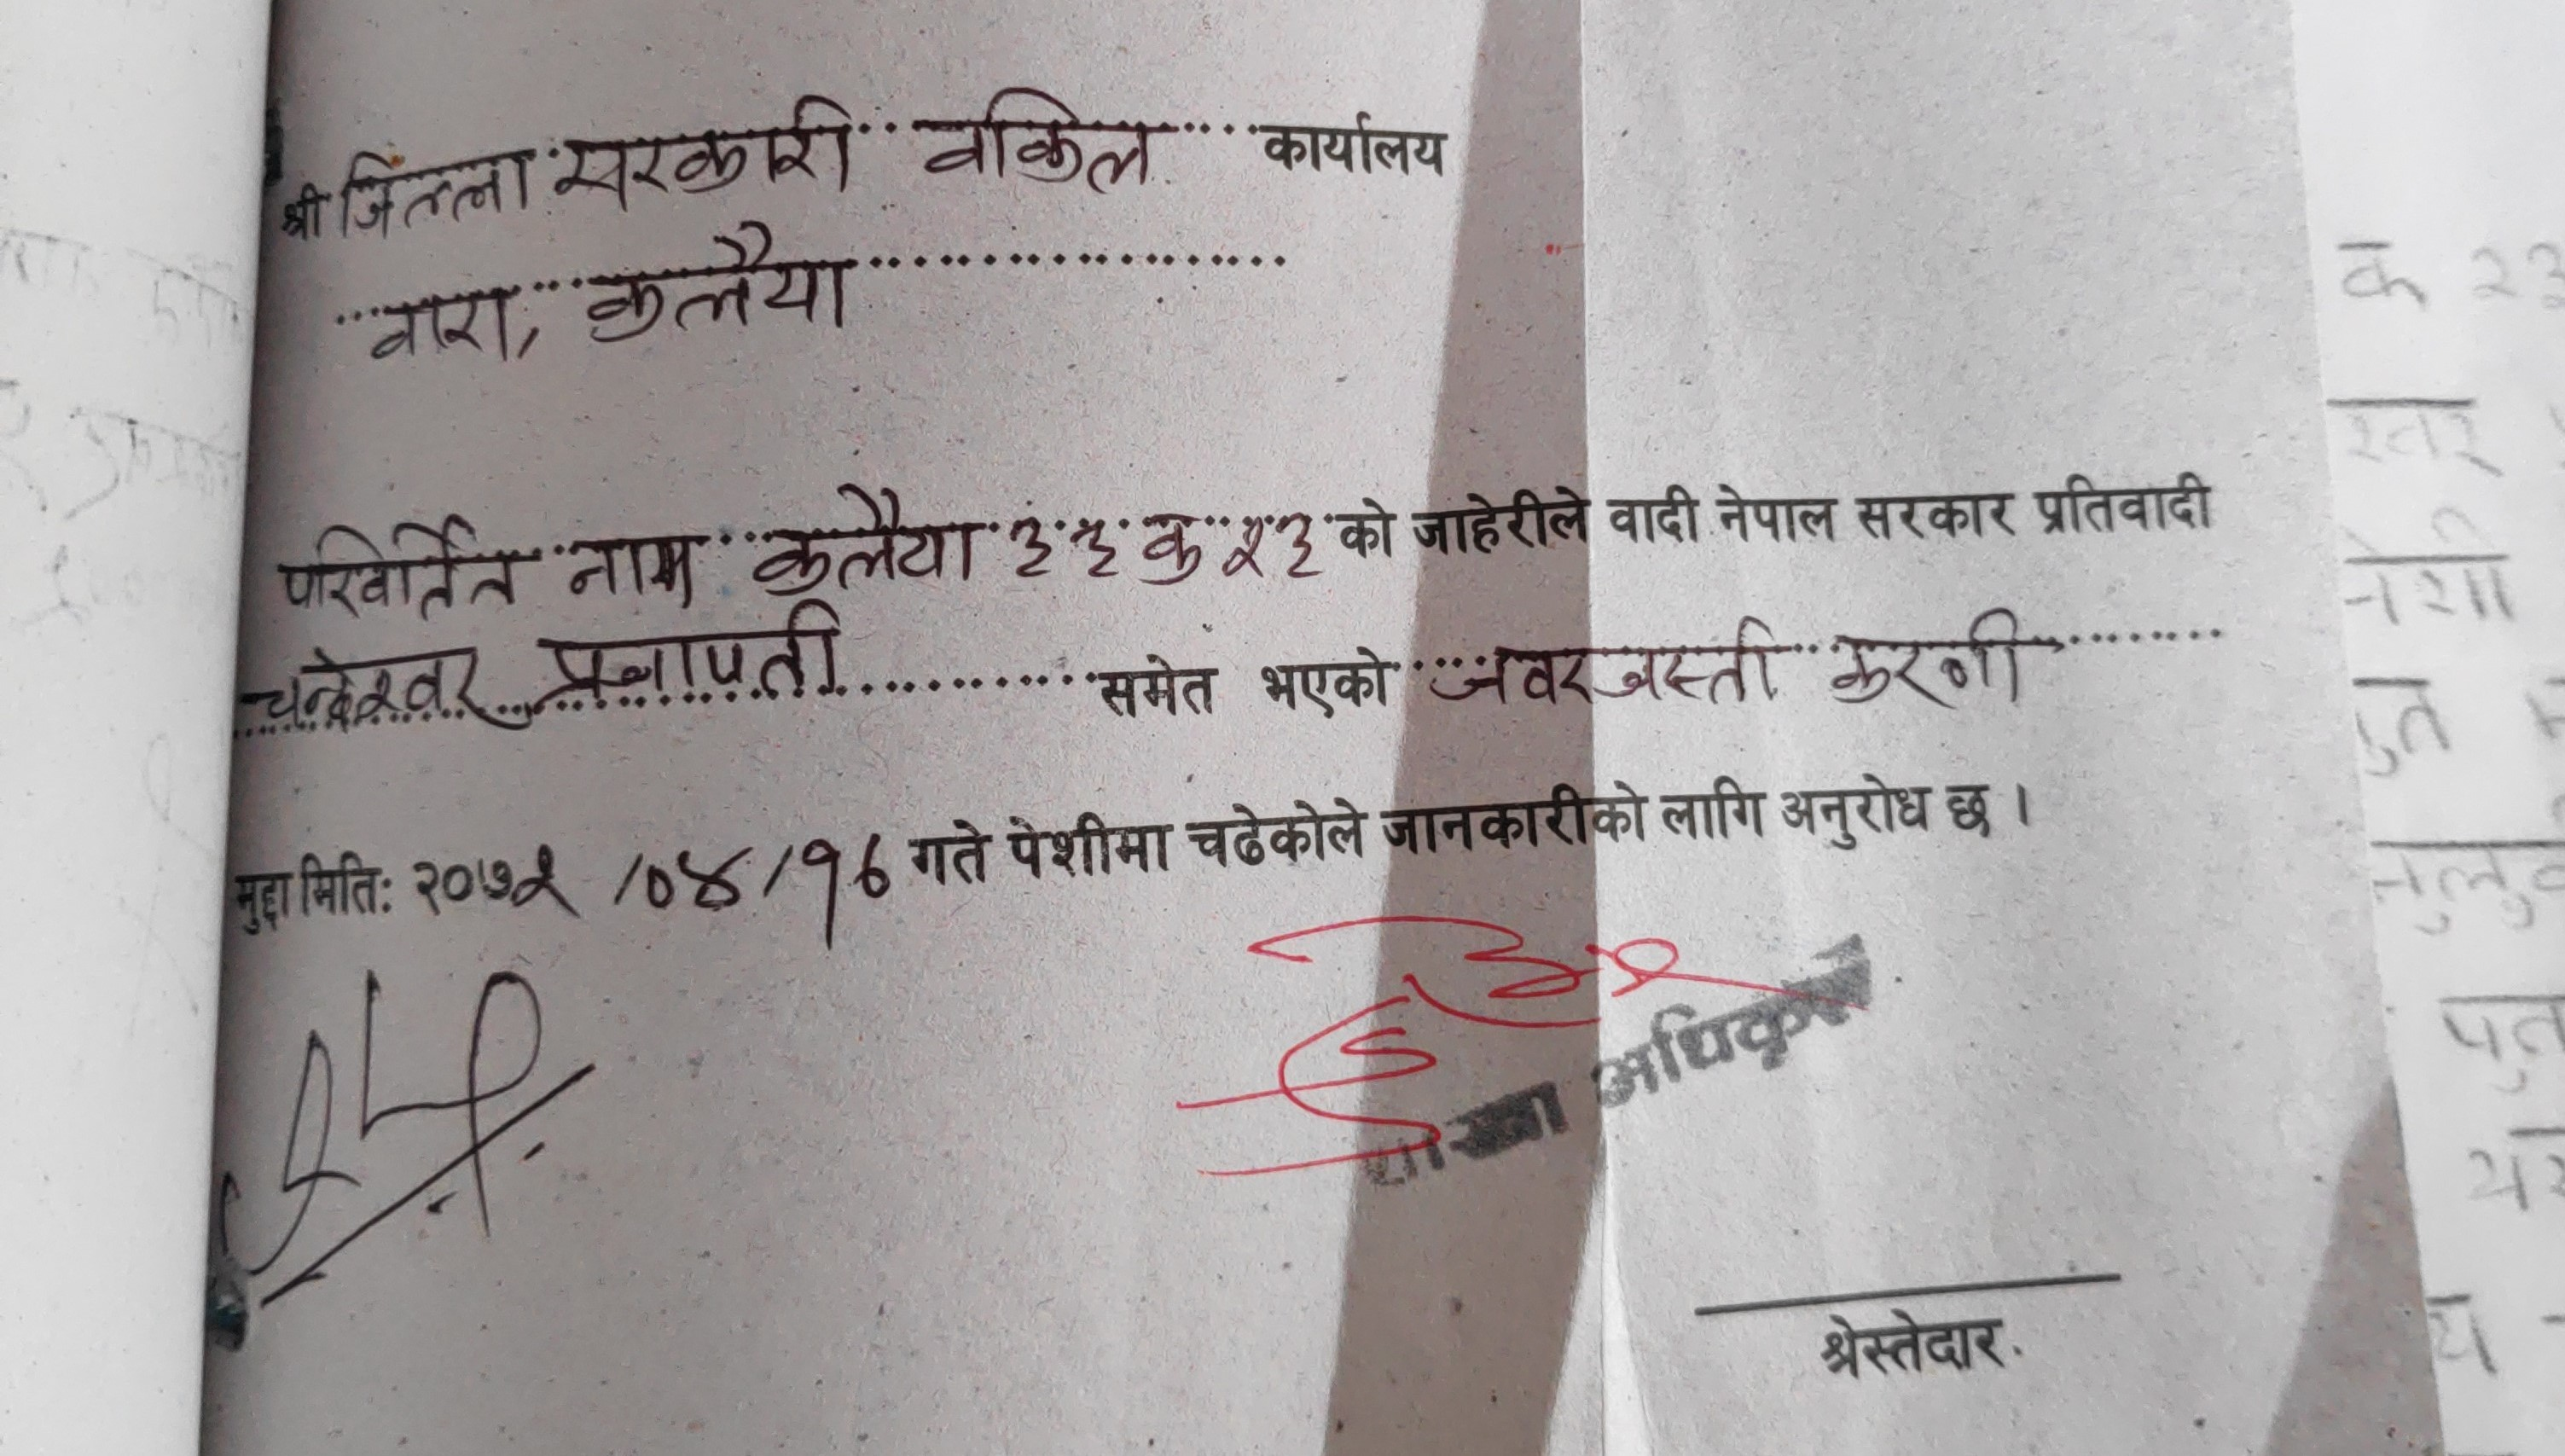text: (550, 86, 869, 218), (1427, 607, 1790, 715), (539, 599, 846, 718), (576, 217, 853, 347), (736, 481, 983, 599), (914, 83, 1163, 199), (1002, 504, 1327, 590), (250, 644, 509, 748), (275, 518, 523, 621), (1820, 606, 2040, 720), (336, 136, 541, 243), (800, 815, 906, 949), (363, 285, 518, 375), (562, 521, 708, 616), (631, 833, 749, 928), (502, 829, 594, 928)
